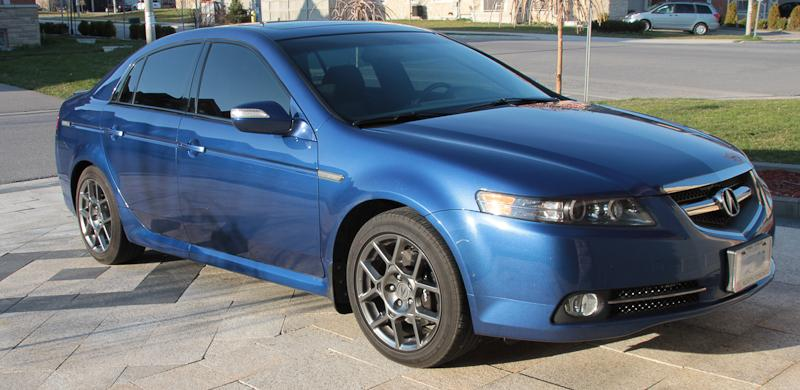car: (48, 12, 782, 368)
